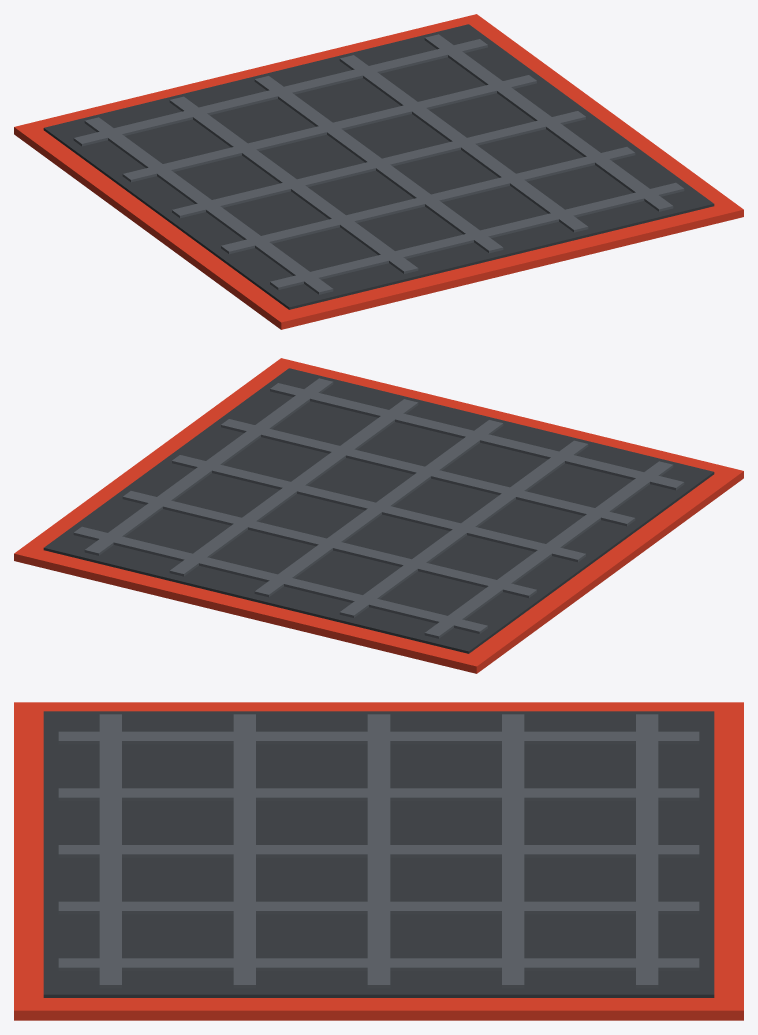
Rendered from PR_SpikeGrate.fbx.
The picture shows the model from 3 angles, top to bottom: view 1: azimuth 30°, elevation 25°; view 2: azimuth 150°, elevation 25°; view 3: azimuth 270°, elevation 25°; orthographic projection. The views are drawn at different scales.
Parts seen in each view (by area): view 1: PR_SpikeGrate; view 2: PR_SpikeGrate; view 3: PR_SpikeGrate.
Part boxes in pixels (x1=…): PR_SpikeGrate: x1=14, y1=14, x2=743, y2=329; PR_SpikeGrate: x1=14, y1=358, x2=743, y2=673; PR_SpikeGrate: x1=14, y1=702, x2=743, y2=1020.
Size of the model in its own units: 1.96 by 1.96 by 0.05.
